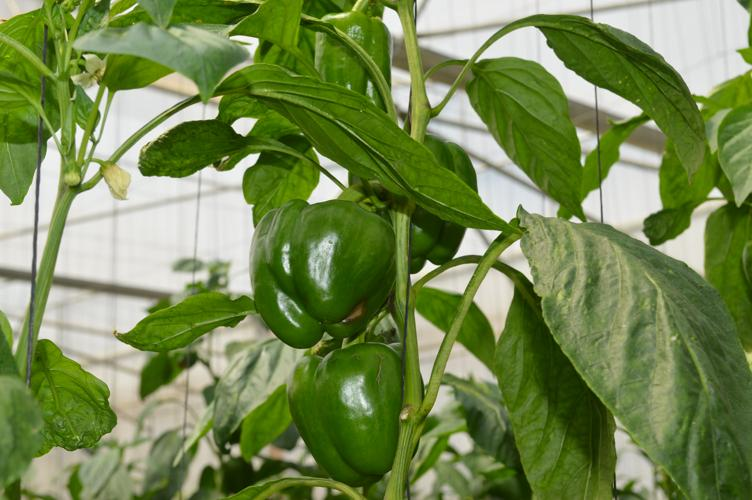BellPepper: (279, 338, 428, 483), (254, 203, 391, 341), (342, 133, 467, 269), (309, 13, 395, 106)
